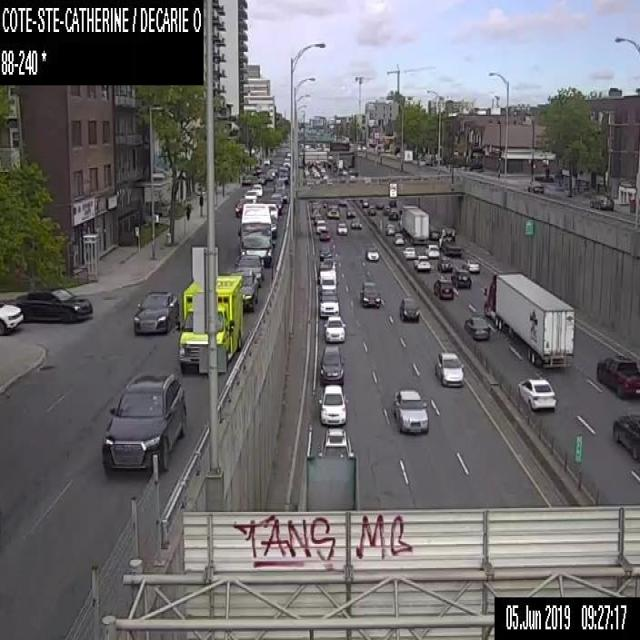bus: (238, 203, 271, 266)
vehicle: (101, 372, 187, 475), (482, 272, 574, 367), (178, 274, 242, 374), (15, 287, 93, 322), (133, 290, 179, 334), (596, 353, 639, 397), (392, 388, 429, 434), (517, 376, 557, 413), (398, 203, 429, 244), (612, 414, 639, 460), (318, 384, 347, 425), (230, 268, 258, 310), (434, 352, 464, 386), (318, 428, 353, 457), (318, 345, 344, 384), (233, 252, 264, 282), (0, 300, 22, 335), (438, 224, 462, 255), (317, 256, 337, 290), (359, 280, 380, 308), (323, 316, 346, 341), (464, 316, 488, 339), (318, 289, 338, 316), (398, 297, 419, 320), (433, 278, 453, 299), (589, 193, 613, 210), (450, 268, 471, 287), (413, 254, 430, 272), (436, 256, 453, 271), (462, 258, 479, 272), (326, 202, 339, 218), (527, 179, 543, 192), (269, 195, 281, 212), (424, 244, 439, 257), (234, 198, 245, 215), (274, 188, 288, 201), (364, 247, 378, 260), (314, 218, 326, 233), (402, 246, 416, 258), (268, 202, 278, 217), (244, 190, 256, 202), (250, 183, 262, 195), (318, 228, 329, 240), (319, 246, 331, 257), (336, 221, 346, 234), (393, 232, 403, 245), (429, 227, 438, 240), (350, 218, 361, 228), (388, 210, 398, 220), (256, 173, 266, 183), (385, 223, 394, 234), (241, 175, 250, 184), (268, 164, 277, 173), (346, 207, 354, 217), (282, 157, 290, 167), (388, 198, 396, 207), (383, 205, 390, 215), (367, 206, 375, 214), (375, 202, 384, 209), (361, 200, 368, 206), (263, 158, 269, 165)
